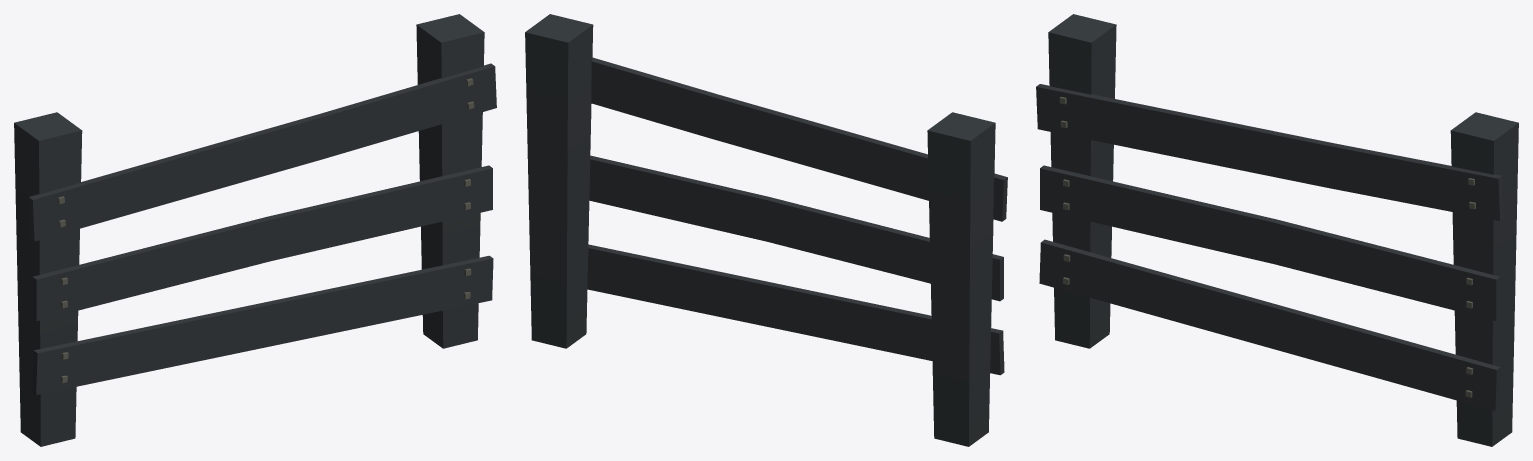
The model's file is Fence_05.fbx.
The picture shows the model from 3 angles, left to right: view 1: azimuth 30°, elevation 25°; view 2: azimuth 150°, elevation 25°; view 3: azimuth 330°, elevation 25°; orthographic projection.
Visible parts, largest first — view 1: Fence_05; view 2: Fence_05; view 3: Fence_05.
Part boxes in pixels (bbox=[...]): Fence_05: bbox=[14, 14, 496, 446]; Fence_05: bbox=[525, 14, 1007, 446]; Fence_05: bbox=[1036, 14, 1518, 446].
Size of the model in its own units: 1.73 by 1.1 by 0.1903.
